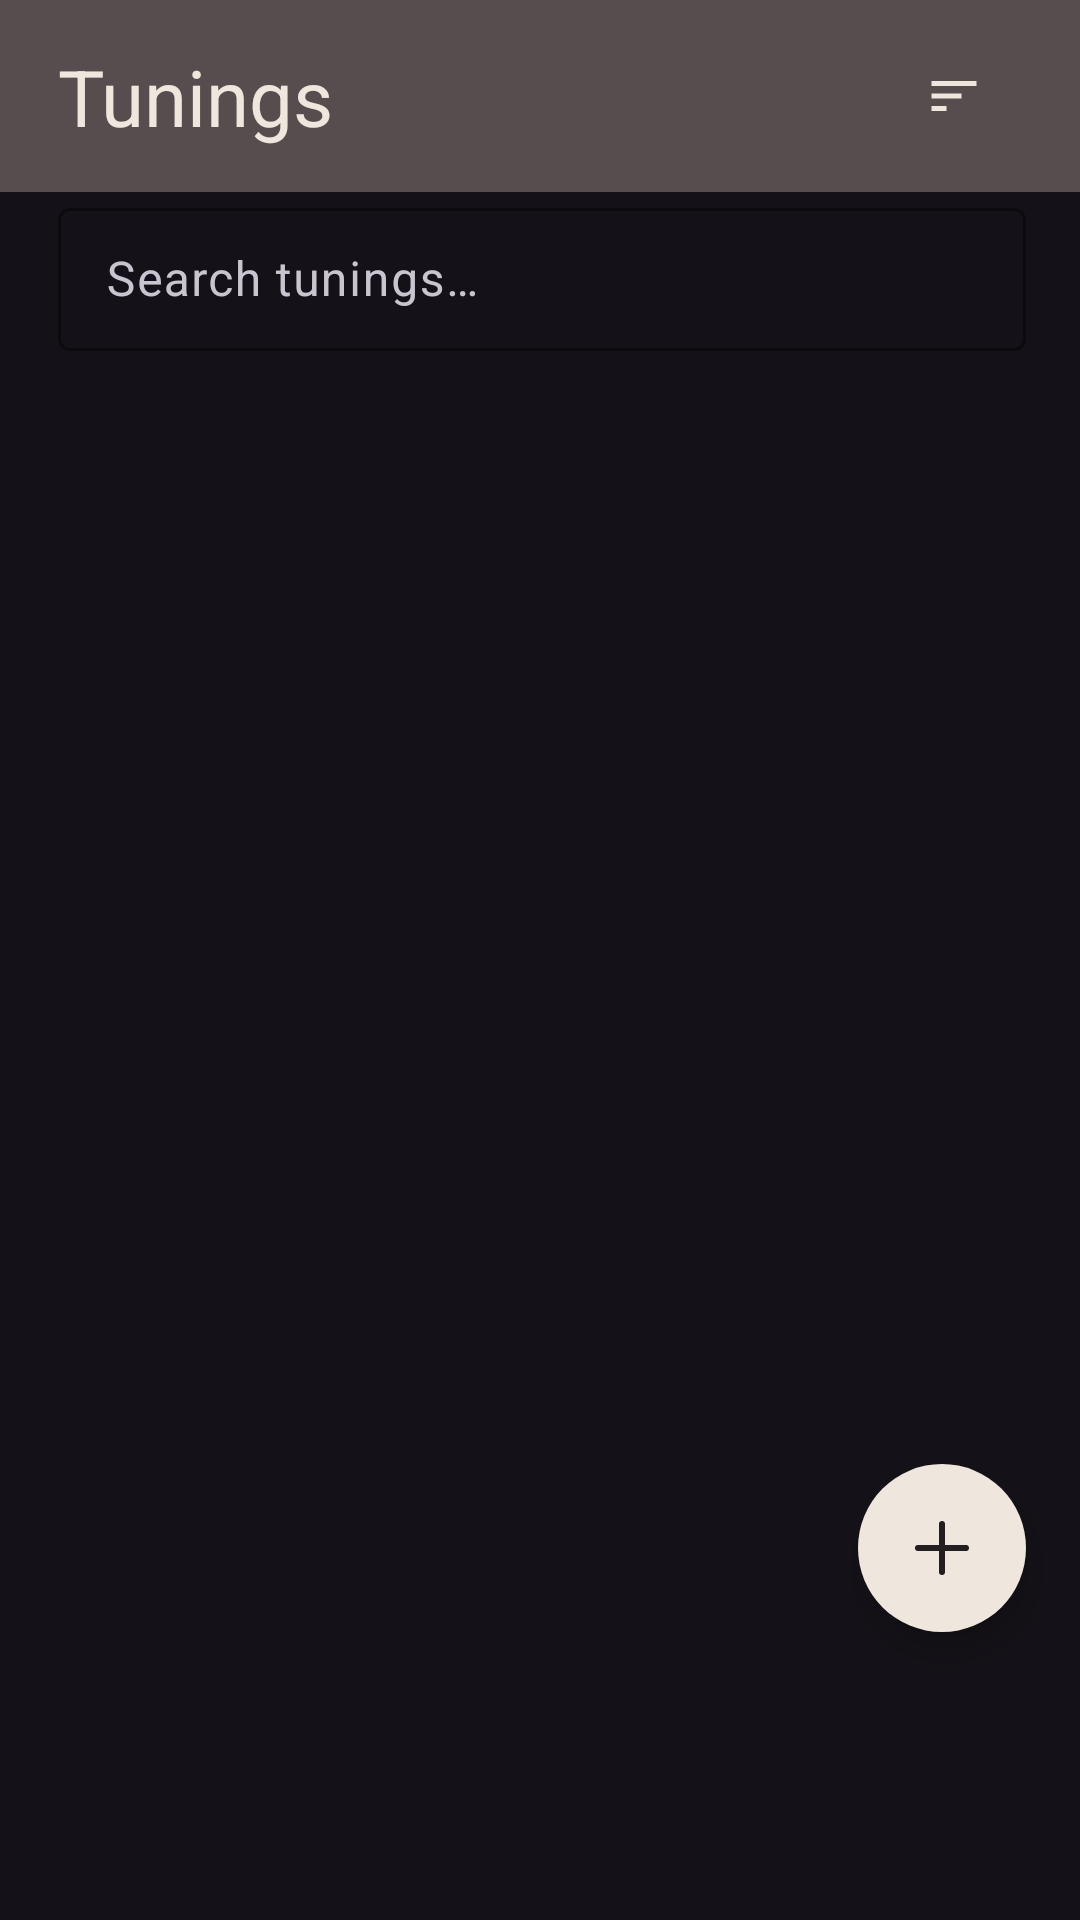

Where to tap for icons on this 1080*1920 app screen, as [x,y]:
Add Tuning Button: [942,1548]
Sort tunings: [954,96]
